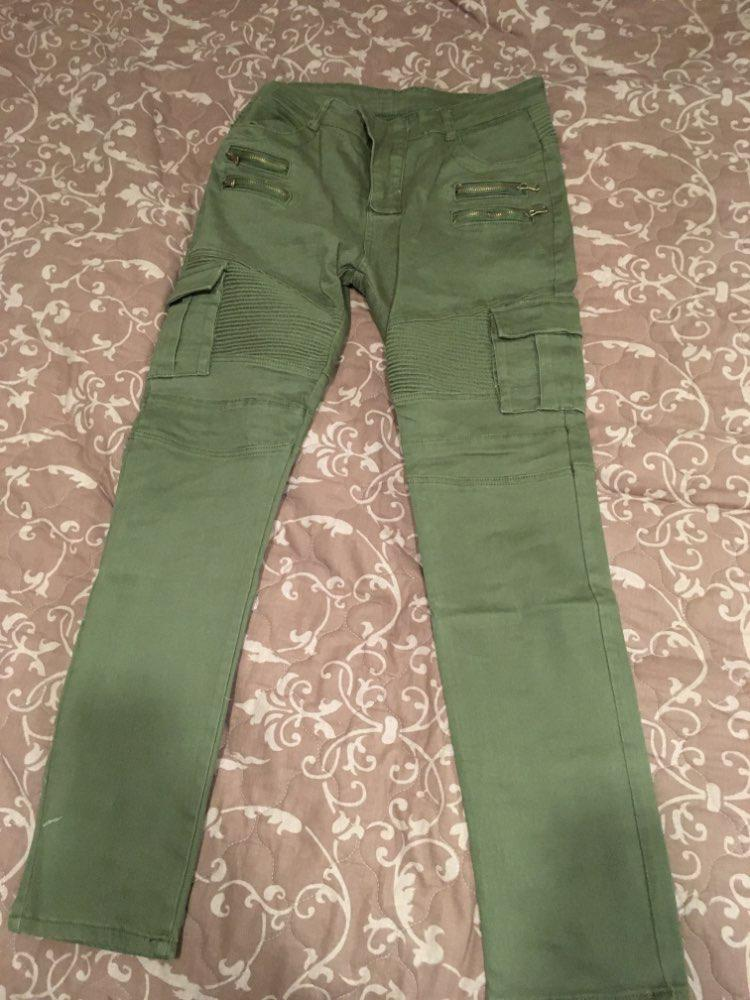jeans: (31, 80, 683, 998)
